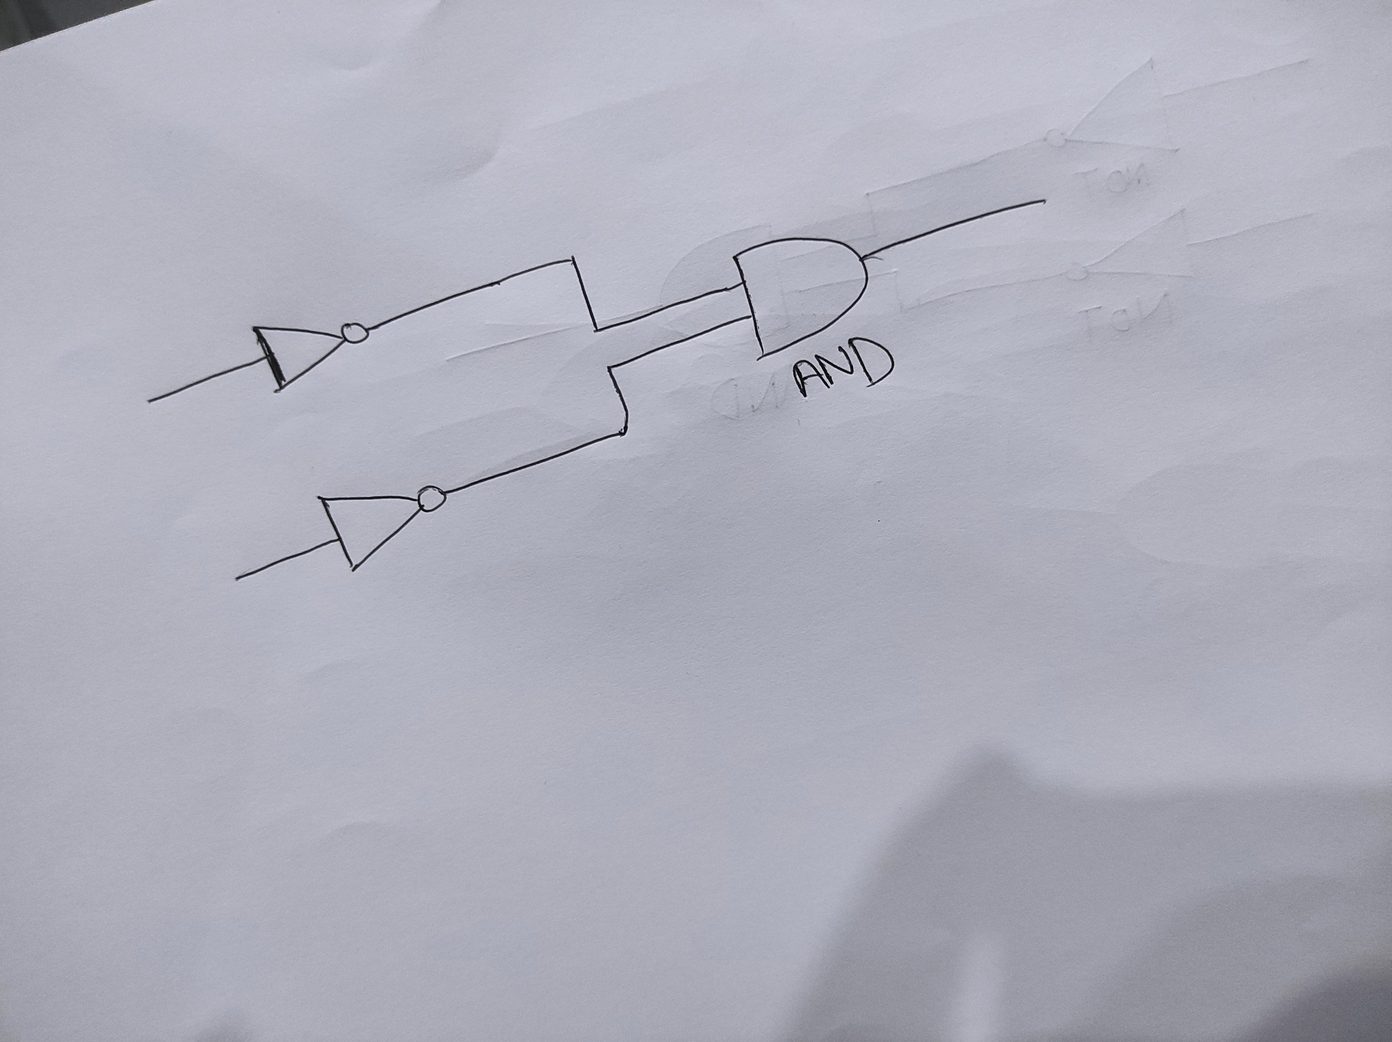and: (729, 234, 871, 366)
junction: (610, 417, 637, 445), (599, 354, 620, 378), (562, 246, 584, 269), (588, 320, 606, 338)
not: (315, 479, 449, 574), (250, 316, 372, 398)
terminal: (221, 561, 260, 590), (131, 387, 177, 412), (1029, 192, 1053, 212)
text: (785, 335, 894, 400)
